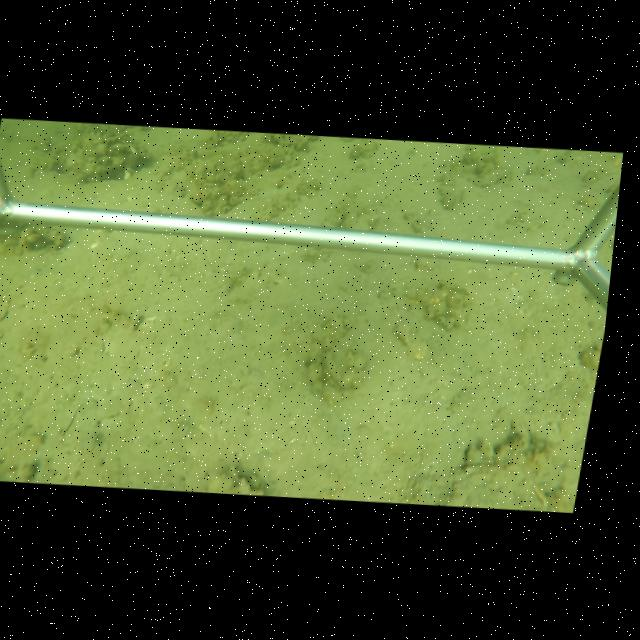Oyster-Closed: (321, 334, 362, 390), (472, 166, 509, 187)
